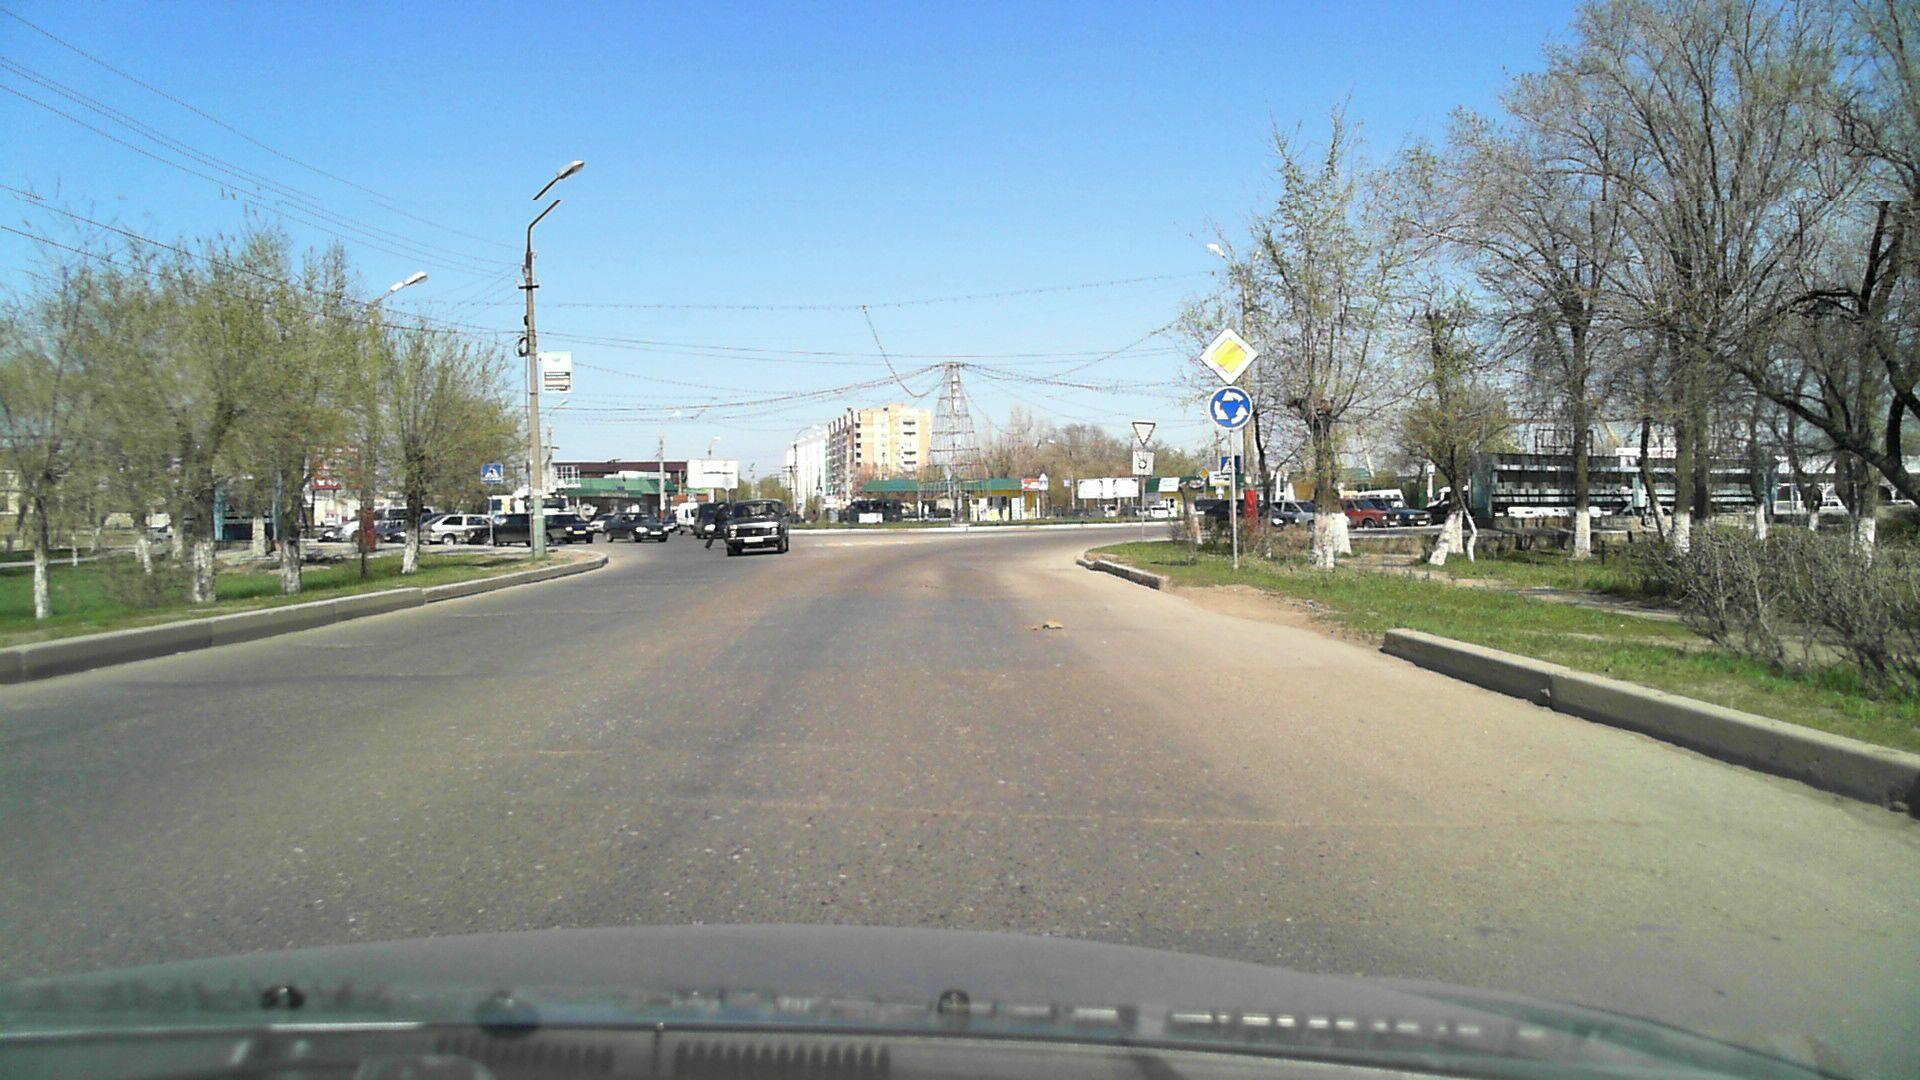2_1: (1199, 465, 1209, 483)
2_2: (1200, 327, 1258, 382)
2_4: (1131, 421, 1158, 446)
4_3: (1208, 386, 1253, 430)
5_19_1: (1220, 456, 1240, 475)
5_19_2: (481, 464, 505, 483)
8_13: (1131, 451, 1156, 476)
